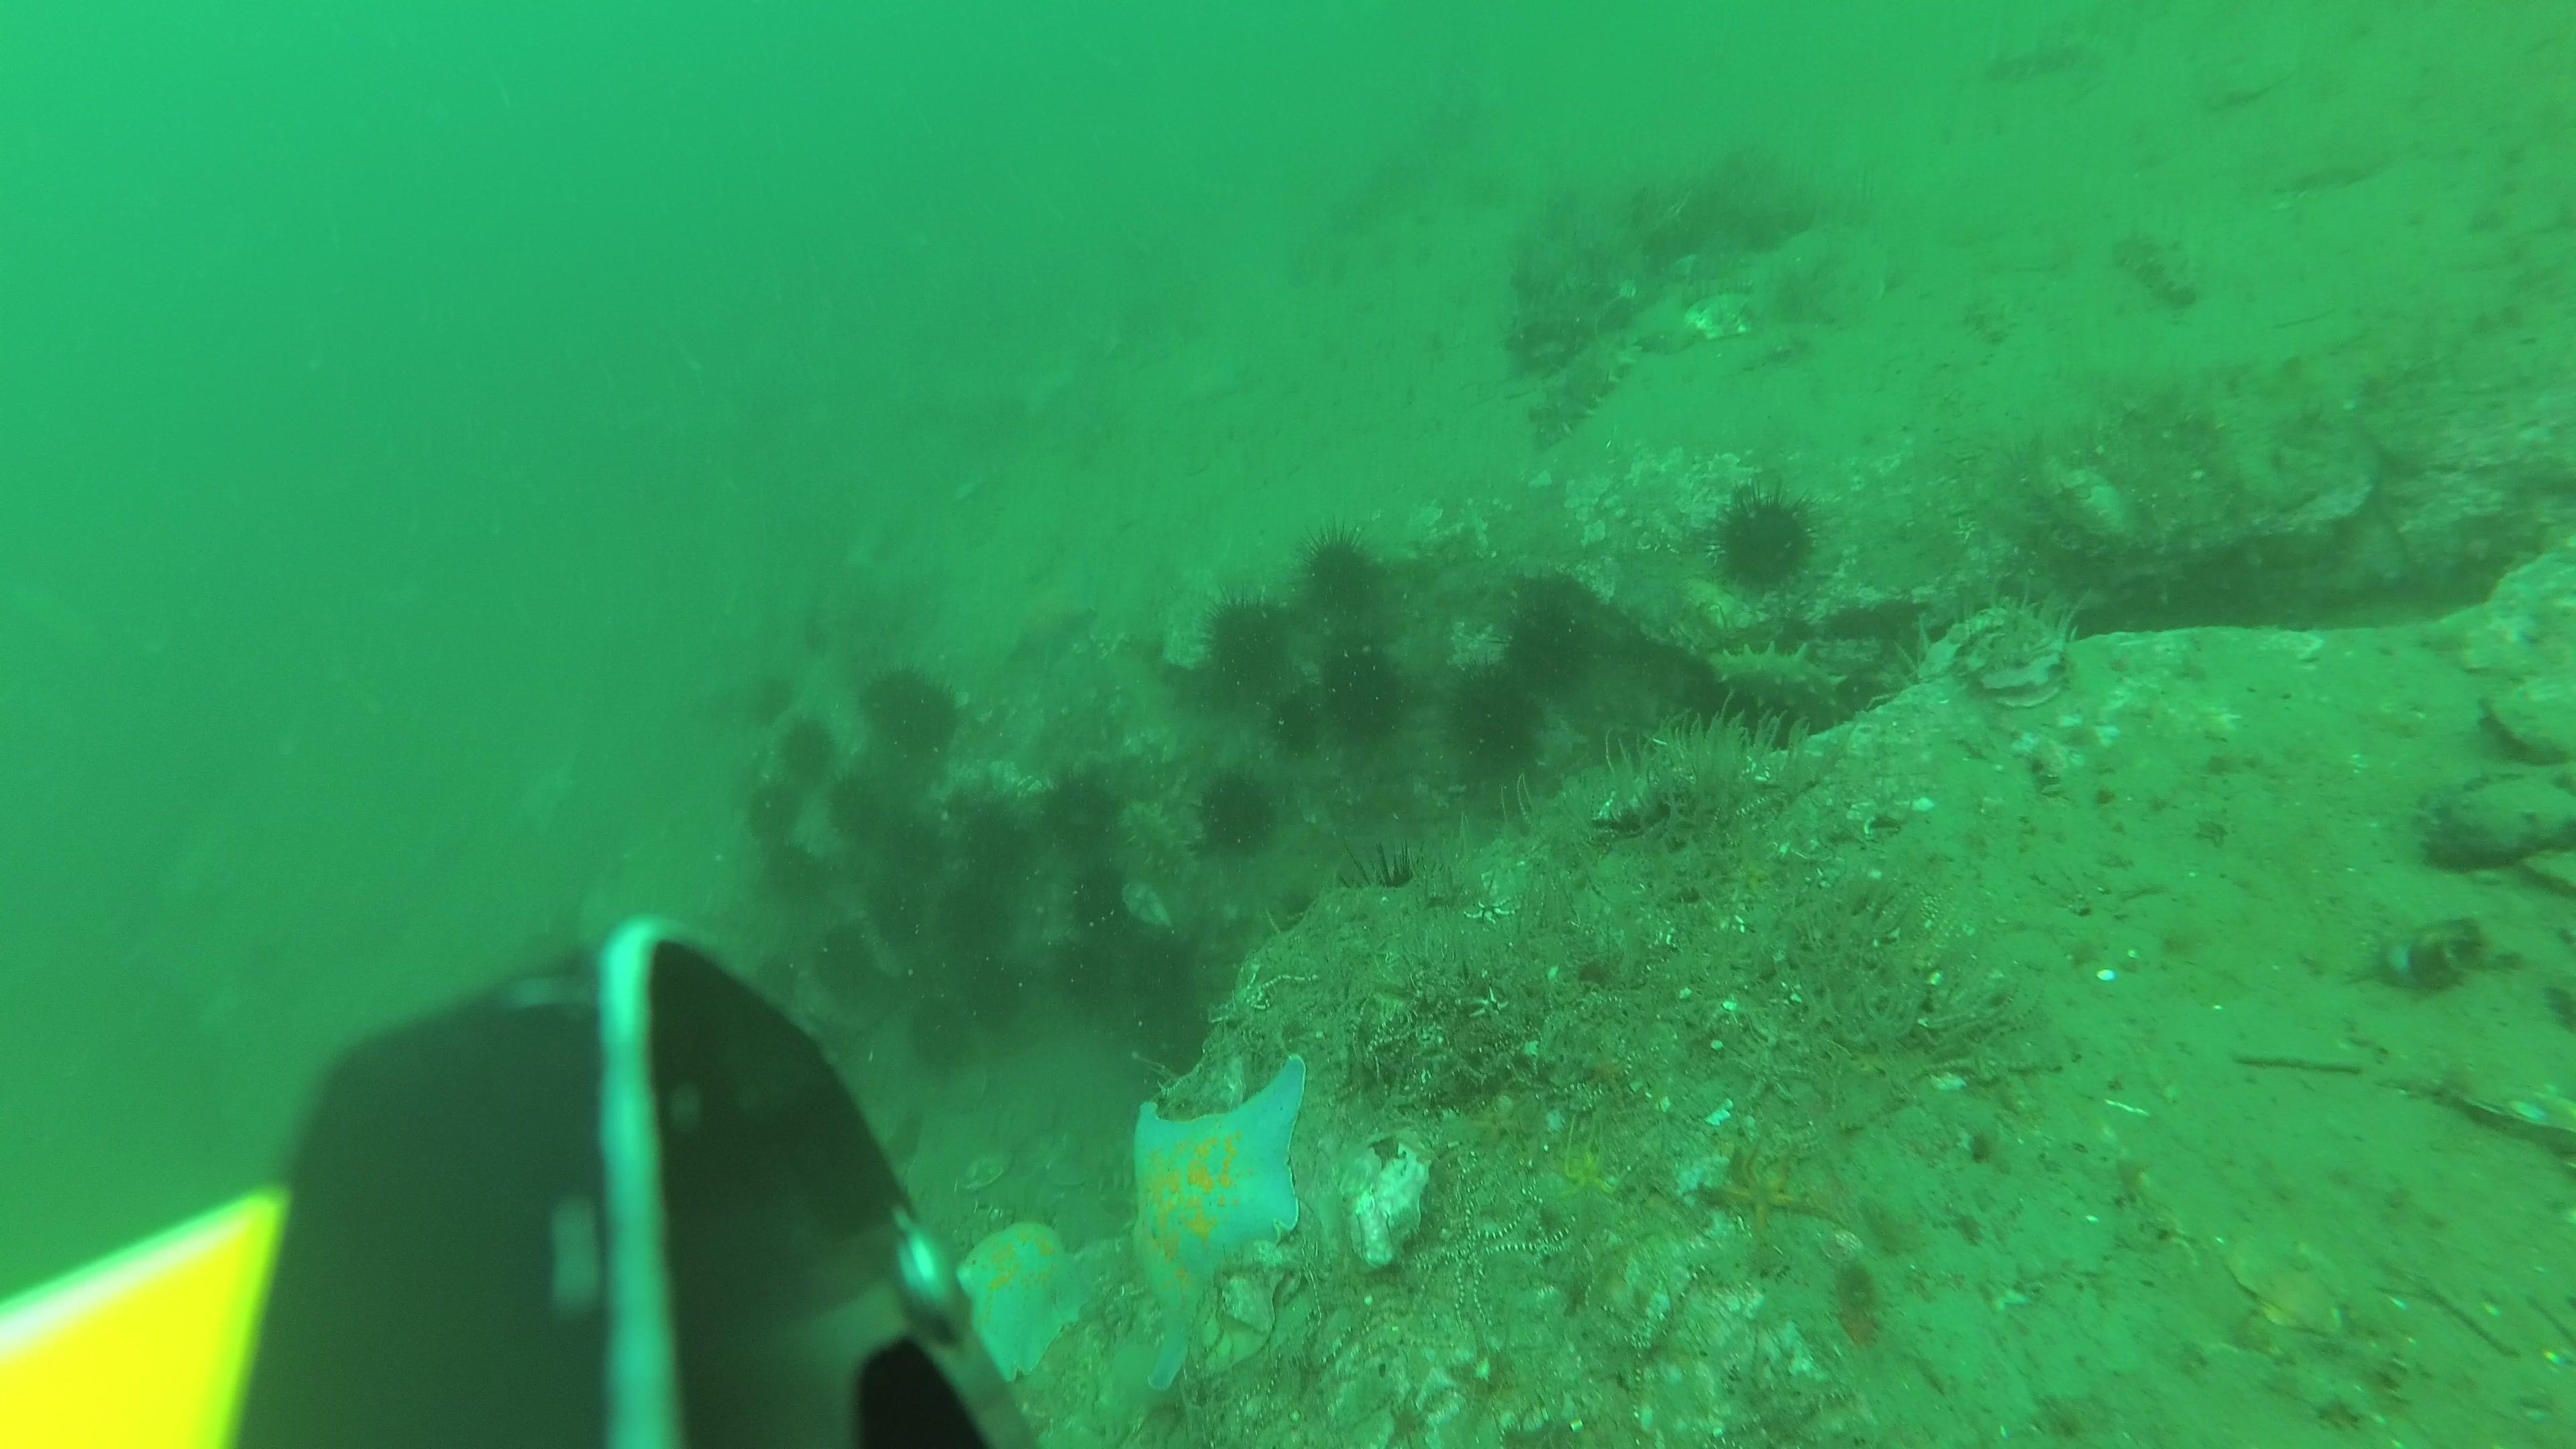echinus: (1707, 481, 1821, 603), (1449, 665, 1541, 784), (1343, 846, 1440, 948), (1297, 524, 1391, 628), (1495, 591, 1583, 699), (1205, 591, 1295, 694), (1330, 651, 1403, 743), (1125, 931, 1196, 1019), (1203, 771, 1276, 855), (934, 893, 1003, 970), (1046, 768, 1111, 847), (961, 809, 1028, 883), (1053, 934, 1113, 1016), (869, 874, 927, 948), (1267, 683, 1323, 759), (869, 660, 925, 734), (902, 1000, 961, 1070), (897, 690, 961, 754), (764, 842, 821, 908), (1074, 858, 1127, 927), (784, 717, 835, 787), (828, 773, 881, 835), (966, 959, 1019, 1021), (819, 932, 869, 998), (745, 952, 798, 1012), (747, 782, 800, 840), (888, 819, 939, 874), (755, 678, 805, 731)
holothurian: (1709, 642, 1849, 729), (1530, 338, 1635, 453), (1980, 32, 2098, 85), (2121, 230, 2201, 308), (1129, 805, 1200, 883), (1092, 1136, 1150, 1189), (1960, 295, 2019, 349)
scallop: (2226, 1233, 2351, 1330), (1690, 295, 1762, 345), (943, 1063, 993, 1113), (959, 1148, 1010, 1189)
starfish: (1132, 1049, 1307, 1396), (954, 1215, 1086, 1394), (1702, 1148, 1842, 1258), (1008, 579, 1093, 678), (1562, 1127, 1617, 1201), (1474, 1095, 1530, 1152)
